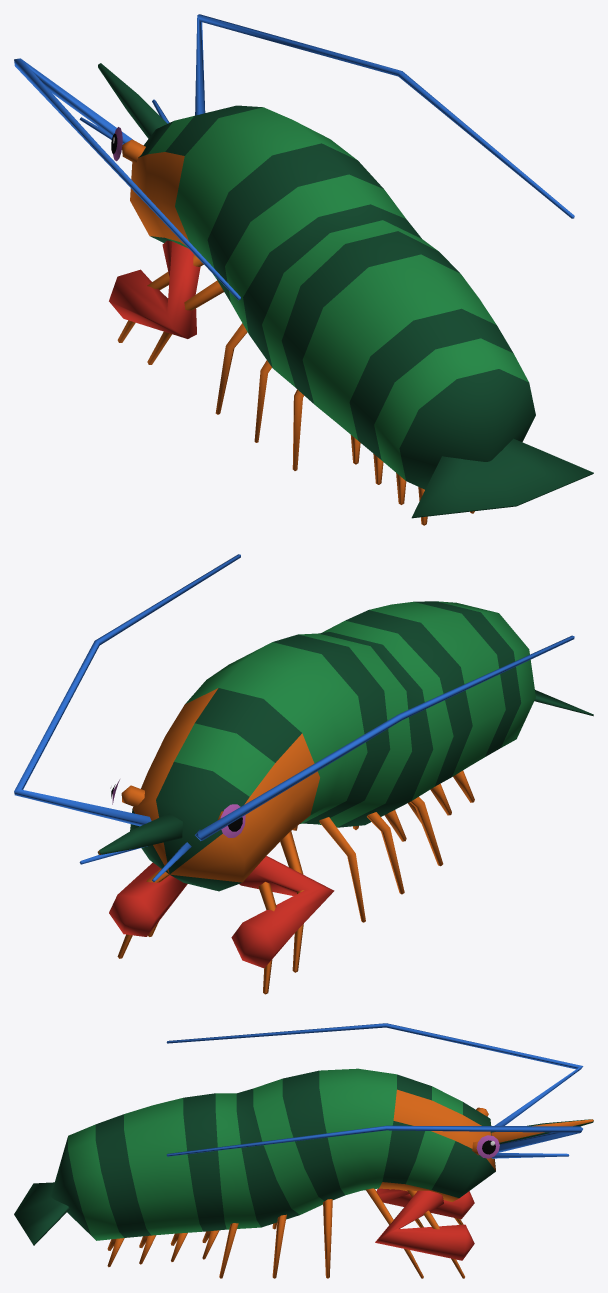
Rendered from mantis_shrimp.glb.
3 views of the same model, one above another, from view 1: azimuth 30°, elevation 25°; view 2: azimuth 150°, elevation 25°; view 3: azimuth 270°, elevation 25° (orthographic). The views are drawn at different scales.
Visible parts, largest first — view 1: mantis_shrimp; view 2: mantis_shrimp; view 3: mantis_shrimp.
Part boxes in pixels (box(x1,y1,x2,y2)): mantis_shrimp: box(14, 14, 593, 525); mantis_shrimp: box(14, 554, 593, 994); mantis_shrimp: box(14, 1023, 593, 1278).
Bounding box in the file's own units: 1.11 × 0.835 × 2.39.
